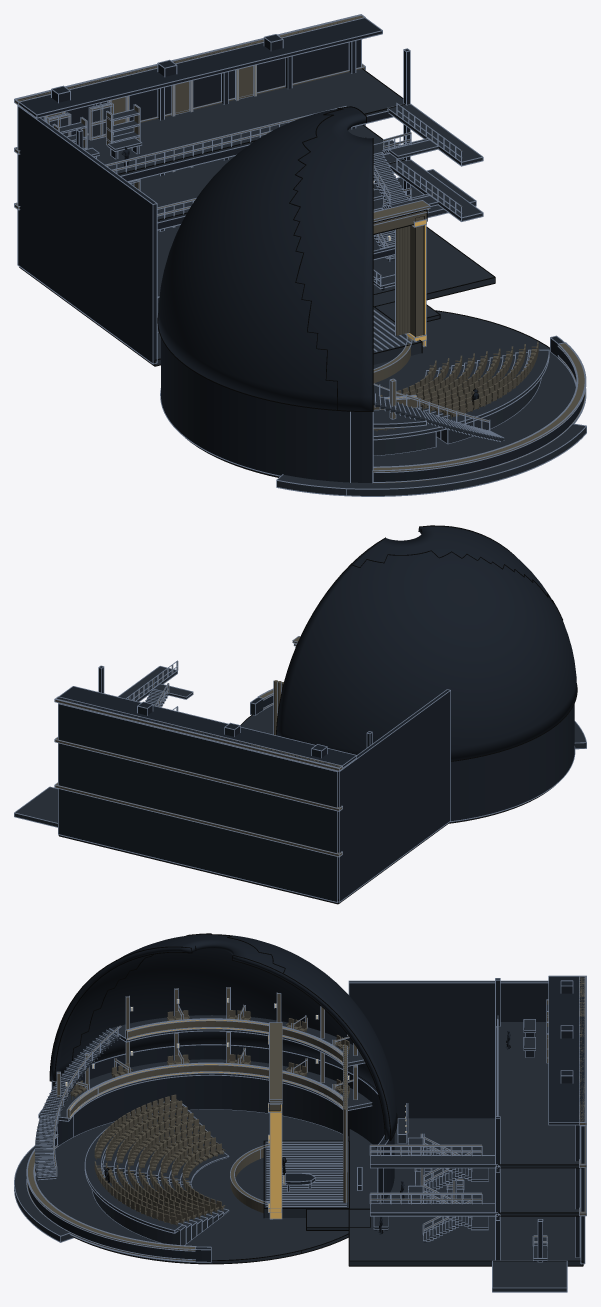
File: 球形剧场.fbx
The picture shows the model from 3 angles, top to bottom: view 1: azimuth 30°, elevation 25°; view 2: azimuth 150°, elevation 25°; view 3: azimuth 270°, elevation 25°; orthographic projection. The views are drawn at different scales.
Parts seen in each view (by area): view 1: 球形剖壳, 描线_focus_球形剧场_暗, 后台左墙, 球厅远侧弧墙, 后区工作楼板.001, 圆厅地基, 后台后缘屋面, 后台后墙, 入口圆弧基座, 后台地板, 描线_focus_球形剧场, 后区工作楼板 (+12 smaller); view 2: 球形剖壳, 后台后墙, 后台左墙, 描线_focus_球形剧场_暗, 球厅远侧弧墙, 后台后缘屋面, 描线_focus_球形剧场, 装车平台, 后台后檐线.002, 后台后檐线.001, 后台后檐线, 右翼楼板.001 (+1 smaller); view 3: 描线_focus_球形剧场_暗, 球形剖壳, 后台左墙, 后台地板, 圆厅地基, 球厅远侧弧墙, 后区工作楼板.001, 描线_focus_球形剧场, 后台后缘屋面, 舞台板, 后区工作楼板, 装车平台 (+19 smaller).
Boxes of the visible parts, x1,y1,x2,y2 form: 球形剖壳: (158,107,372,411); 描线_focus_球形剧场_暗: (14,14,586,496); 后台左墙: (18,107,156,363); 球厅远侧弧墙: (161,338,372,482); 后区工作楼板.001: (74,69,403,175); 圆厅地基: (222,311,575,476); 后台后缘屋面: (18,16,382,117); 后台后墙: (41,39,360,135); 入口圆弧基座: (277,424,586,495); 后台地板: (153,225,494,365); 描线_focus_球形剧场: (19,68,549,477); 后区工作楼板: (131,125,403,221); 球形剖壳: (276,526,576,760); 后台后墙: (58,704,338,901); 后台左墙: (338,690,450,901); 描线_focus_球形剧场_暗: (14,636,586,902); 球厅远侧弧墙: (451,704,574,821); 后台后缘屋面: (57,686,356,767); 描线_focus_球形剧场: (58,525,577,904); 装车平台: (14,787,57,826); 后台后檐线.002: (55,699,342,770); 后台后檐线.001: (55,738,342,810); 后台后檐线: (55,783,342,856); 右翼楼板.001: (119,666,177,701); 描线_focus_球形剧场_暗: (14,975,586,1292); 球形剖壳: (50,934,396,1139); 后台左墙: (349,981,548,1118); 后台地板: (349,1118,582,1265); 圆厅地基: (35,1109,348,1263); 球厅远侧弧墙: (52,1044,394,1201); 后区工作楼板.001: (498,1022,578,1167); 描线_focus_球形剧场: (49,933,583,1266); 后台后缘屋面: (549,976,584,1124); 舞台板: (264,1141,348,1217); 后区工作楼板: (498,1168,578,1215); 装车平台: (492,1261,566,1291).
Bounding box in the file's own units: 4262 × 2462 × 5395.
